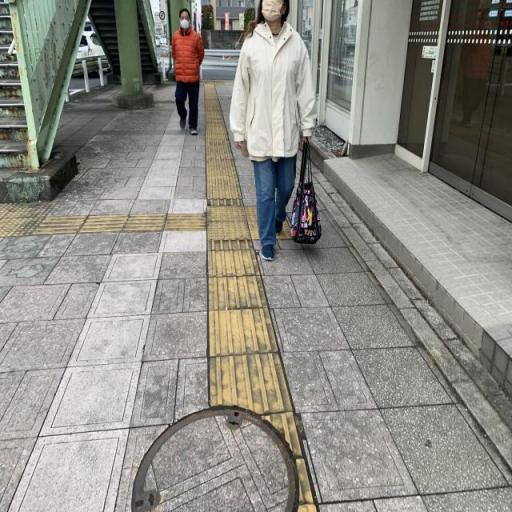line: (209, 352, 292, 414), (209, 309, 277, 355), (206, 275, 268, 308), (261, 413, 302, 456), (206, 248, 259, 276), (294, 459, 314, 505), (297, 503, 318, 511)
